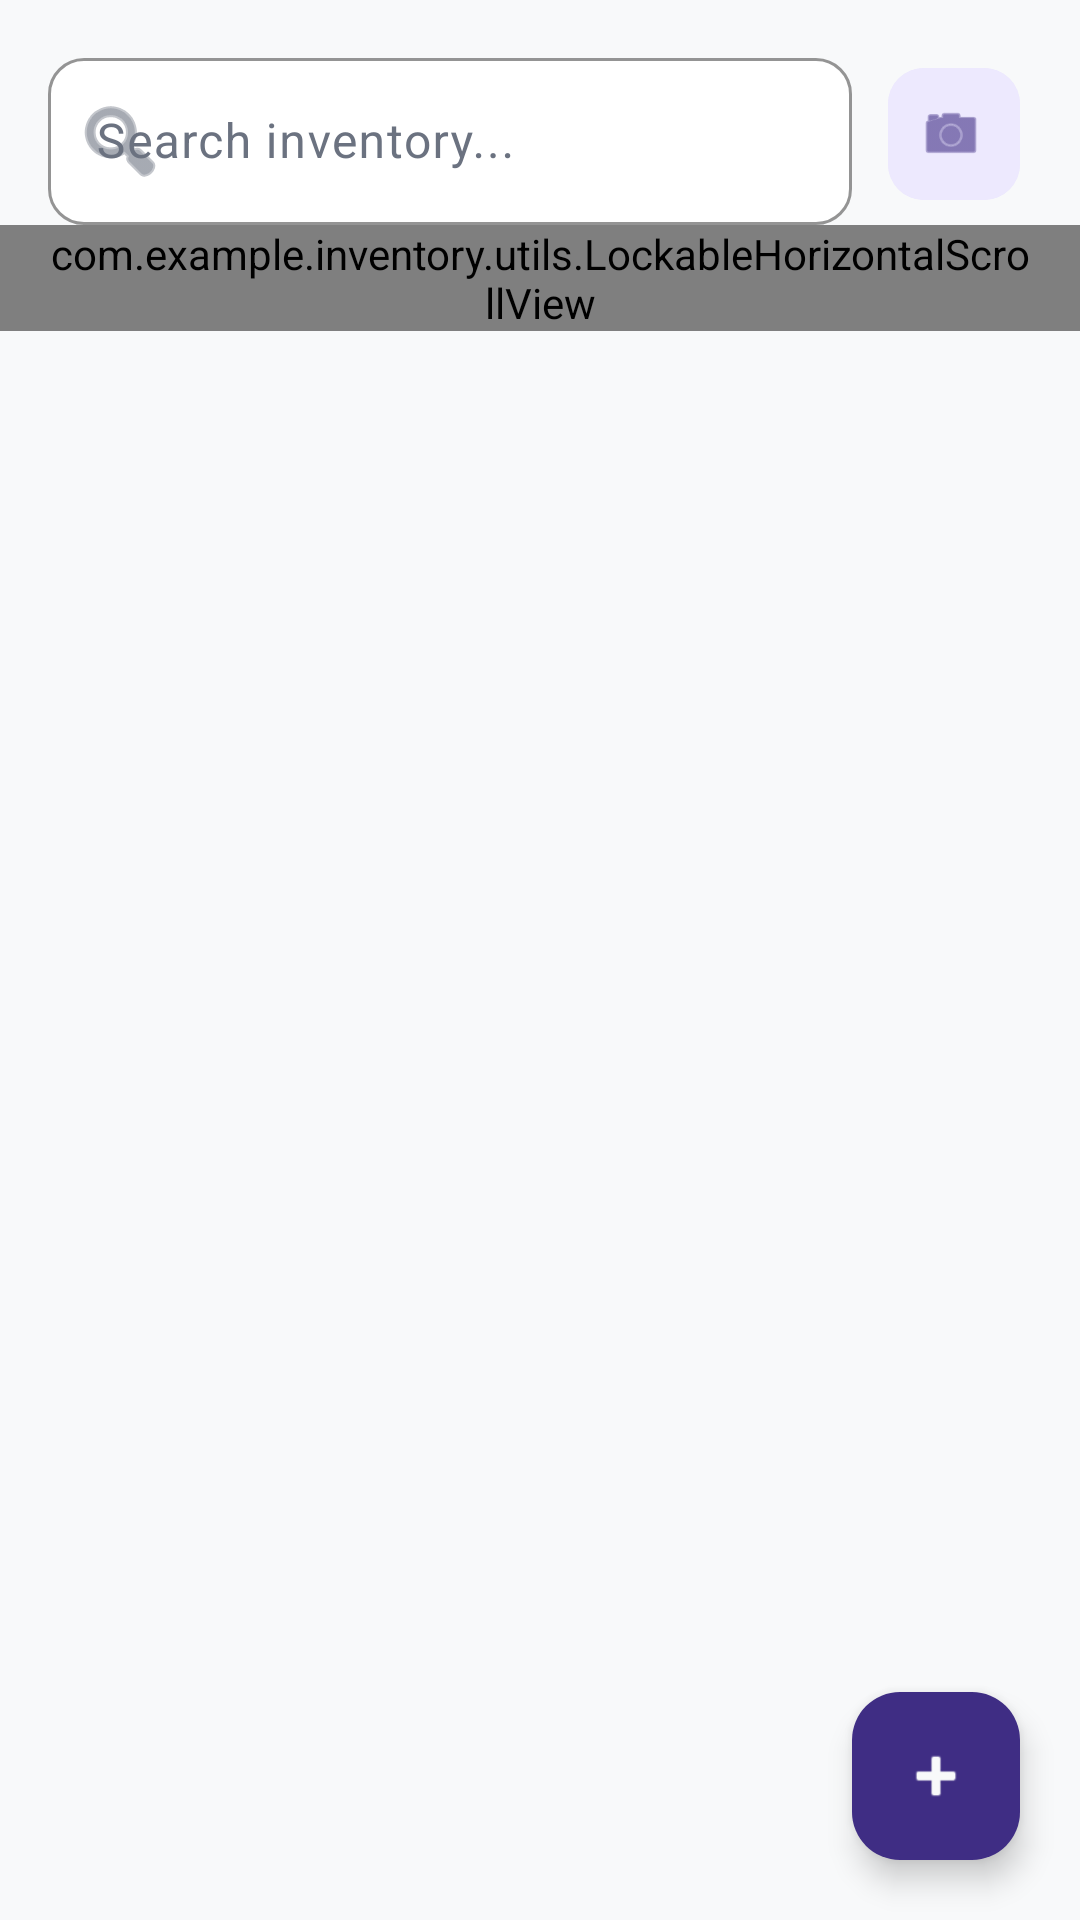

Icons on this 1080×1920 Android screen, each with the point to tap as (x=x, y=y):
Add product: (x=936, y=1776)
